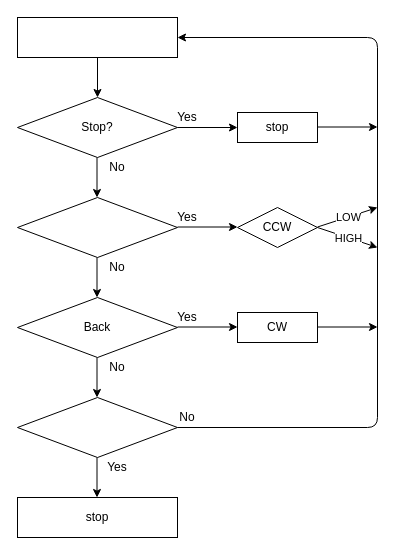
This 403x555 diagram has some shape labels left out. The box of each missing label's shape, as (x1, y1, x2, y2) in pixels:
Front: (16, 196, 178, 258)
main.py: (16, 16, 178, 58)
terminate: (16, 396, 178, 458)
